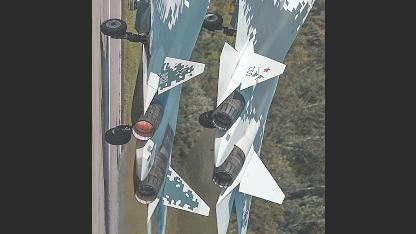SR71: (198, 0, 326, 233), (101, 0, 222, 233)
